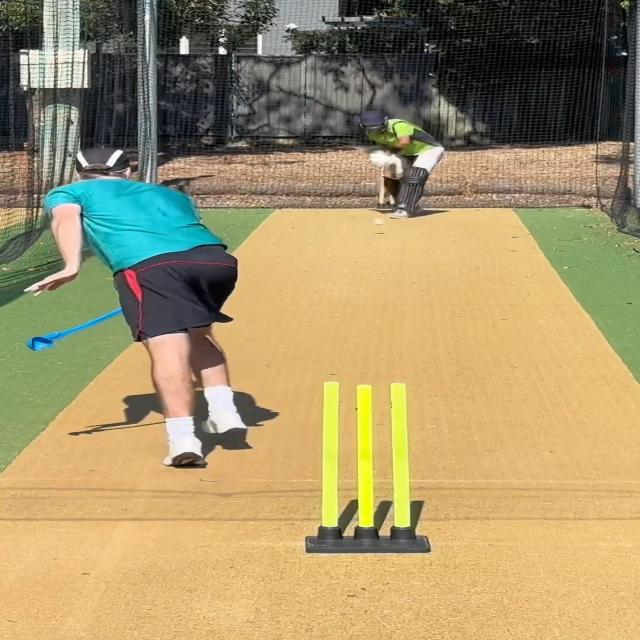ball: (372, 216, 386, 226)
stump: (302, 379, 430, 554)
